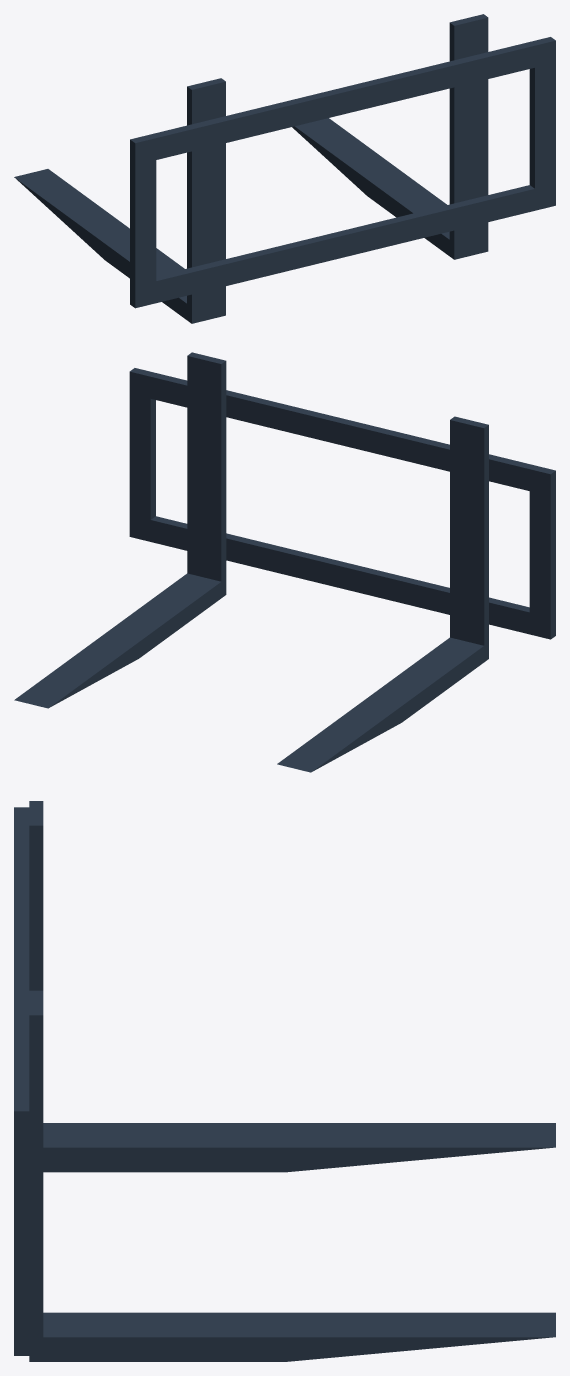
The model's file is forks.fbx.
3 views of the same model, one above another, from view 1: azimuth 30°, elevation 25°; view 2: azimuth 150°, elevation 25°; view 3: azimuth 270°, elevation 25° (orthographic). The views are drawn at different scales.
Visible parts, largest first — view 1: Forks; view 2: Forks; view 3: Forks.
Boxes of the visible parts, x1,y1,x2,y2 form: Forks: (14, 14, 555, 323); Forks: (14, 352, 555, 772); Forks: (14, 801, 555, 1361).
Bounding box in the file's own units: 160 × 85.02 × 121.
